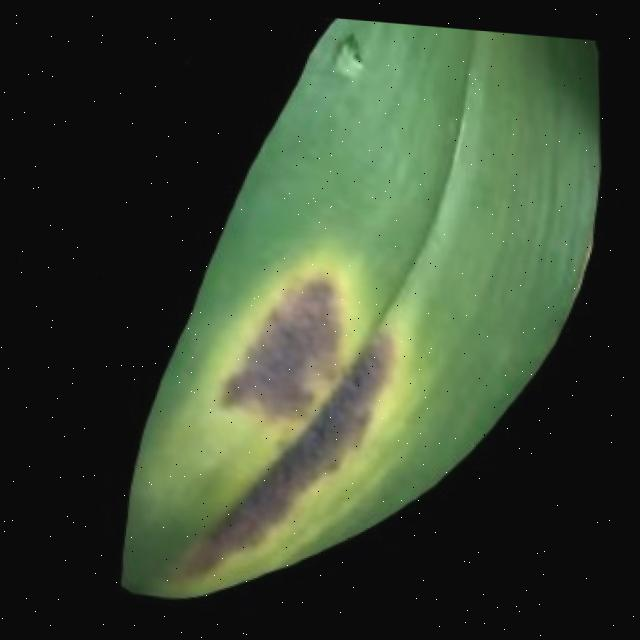mite: (329, 24, 367, 74), (344, 27, 365, 59)
spots: (98, 4, 615, 636)
sunburn: (152, 251, 401, 601)
